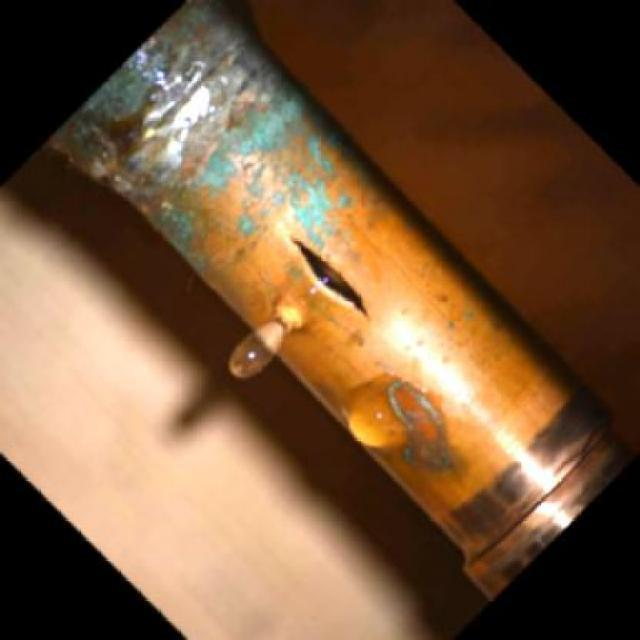Hole: (273, 227, 393, 336)
